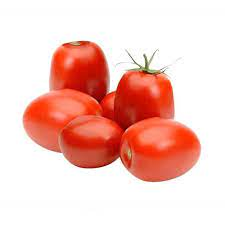tomato: (123, 111, 204, 186), (47, 39, 119, 102), (52, 114, 130, 168), (119, 64, 182, 123)
